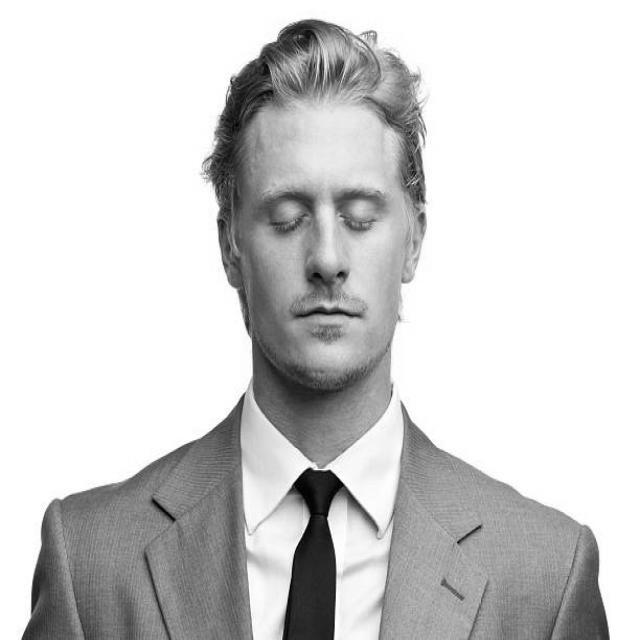real: (215, 96, 431, 396), (253, 179, 388, 244)
